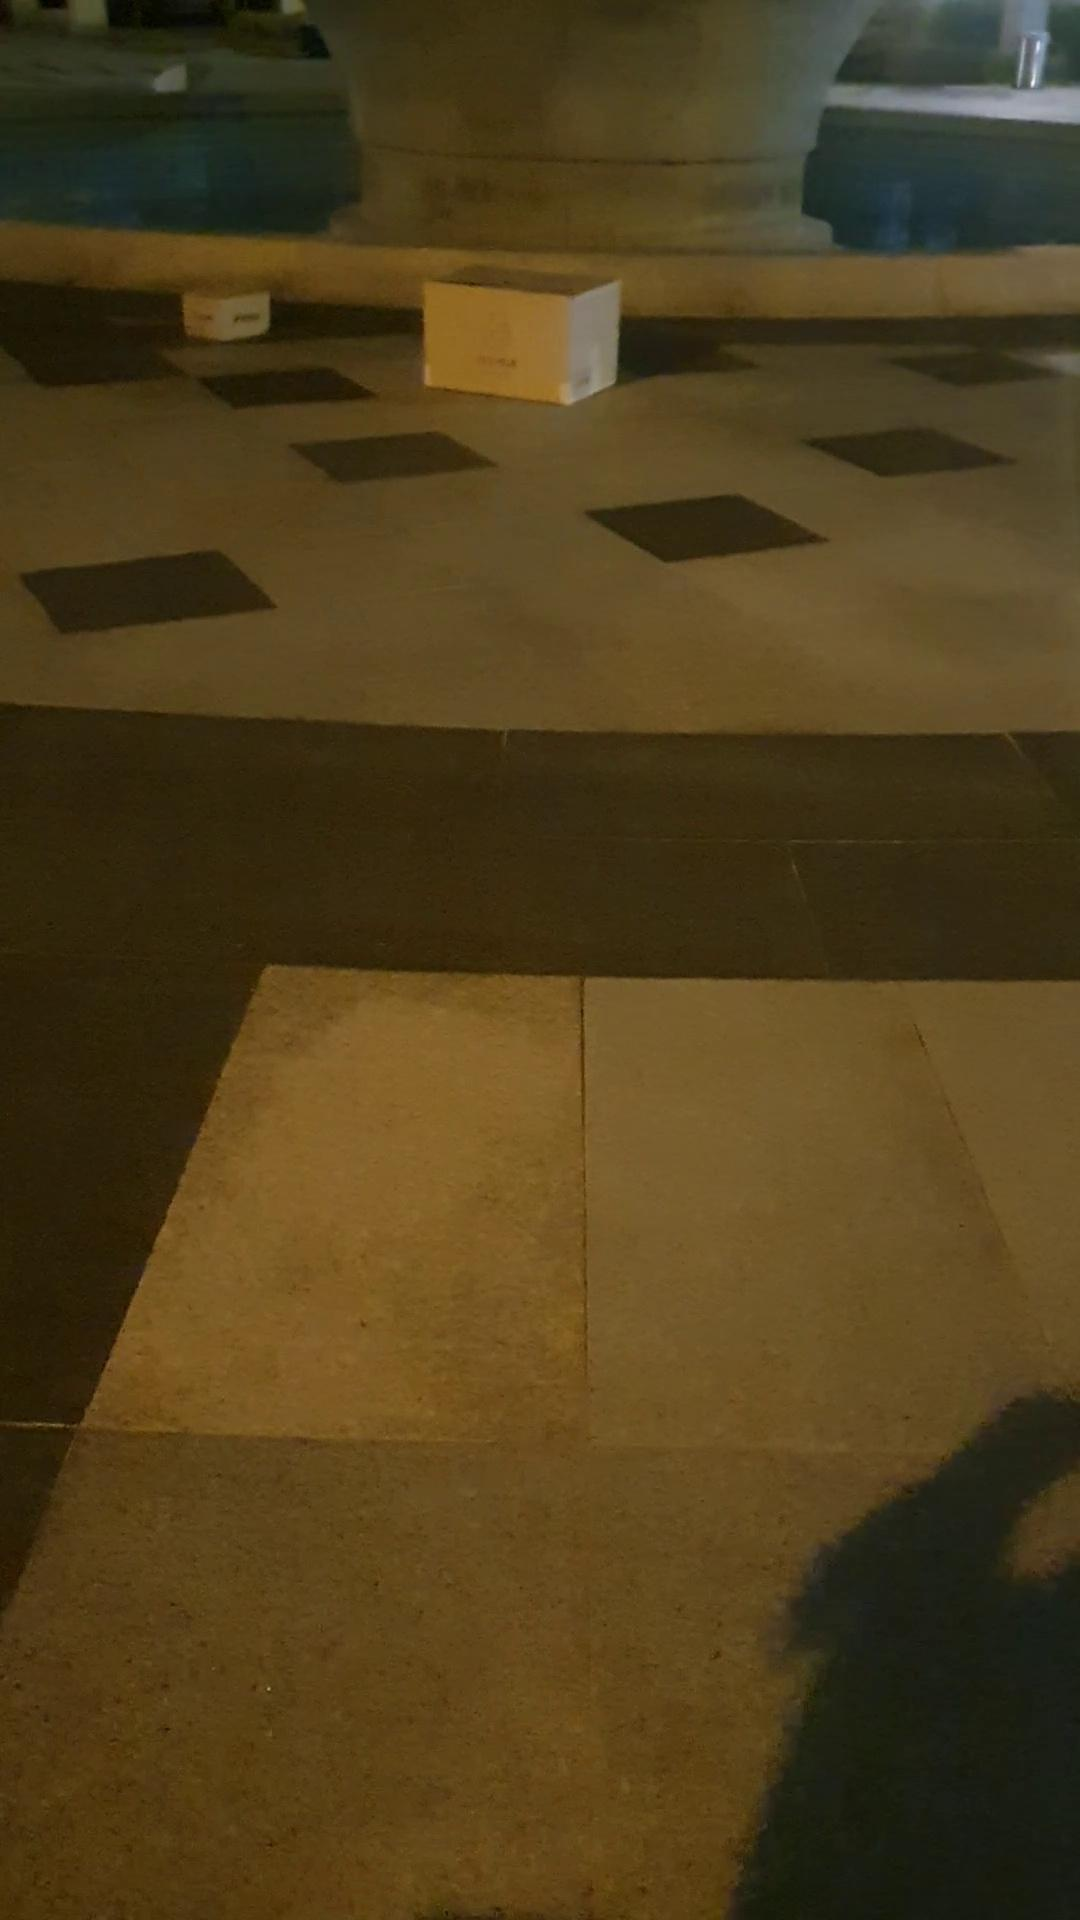Box: (407, 245, 620, 425), (175, 268, 284, 340)
